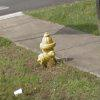Hydrant: (30, 25, 64, 75)
